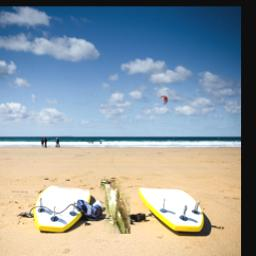Cuckoo: (101, 179, 130, 234)
